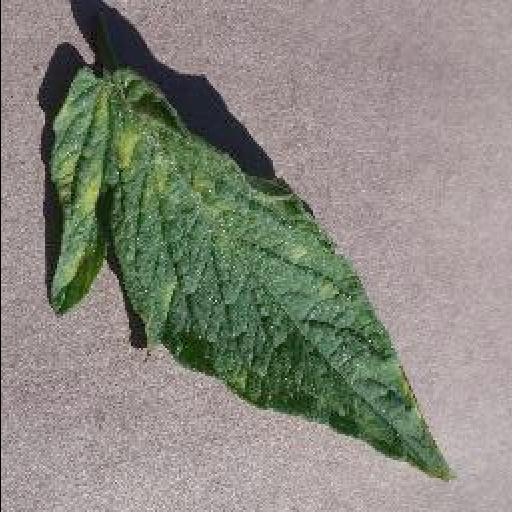disease_tomato: (47, 66, 457, 484)
